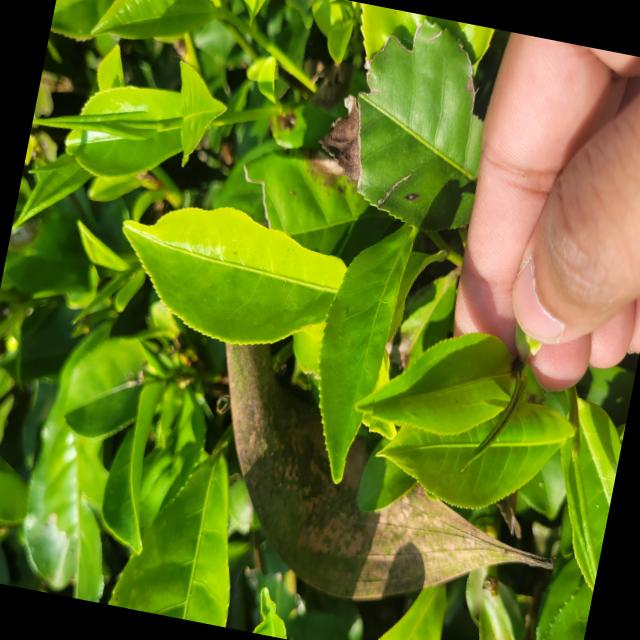Catagory A(1-2 days): (282, 208, 410, 506)
